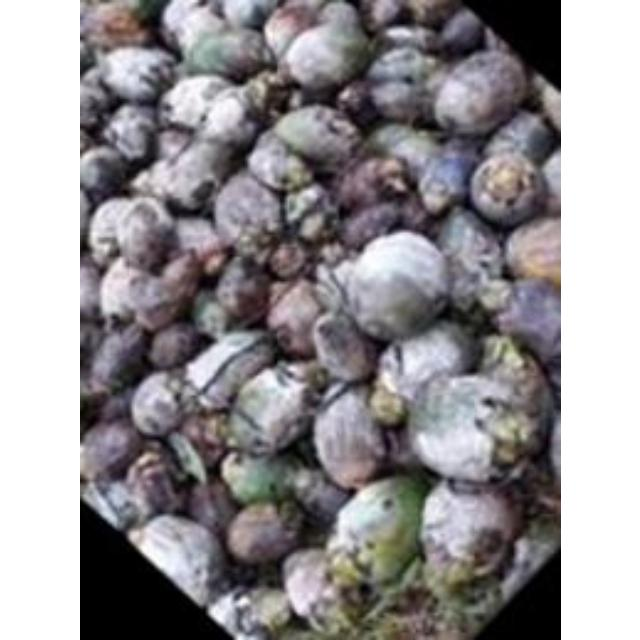damaged: (410, 371, 532, 484), (418, 479, 518, 585), (352, 227, 446, 331), (128, 512, 228, 604), (225, 362, 318, 458), (374, 322, 476, 404), (310, 384, 388, 490), (184, 330, 272, 410), (432, 209, 502, 295), (308, 313, 378, 385), (224, 501, 302, 565), (264, 279, 326, 357), (213, 172, 280, 244), (278, 549, 336, 625), (128, 370, 190, 440), (221, 451, 301, 505), (122, 450, 184, 518), (212, 254, 270, 324), (79, 417, 141, 481), (245, 132, 308, 192), (287, 465, 347, 527), (340, 201, 404, 251), (177, 408, 230, 468), (186, 479, 237, 538), (148, 321, 202, 369), (394, 193, 432, 234), (94, 389, 134, 427), (268, 240, 308, 278)
